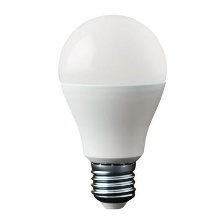light_bulb: (54, 9, 170, 215)
